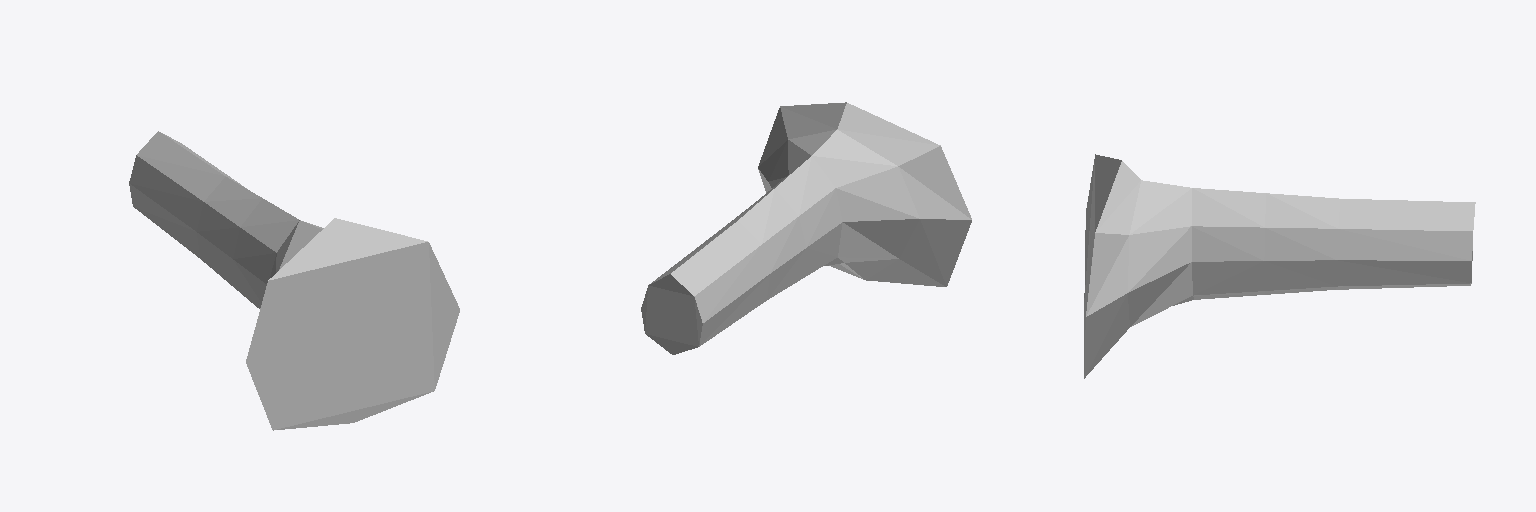
The model's file is cola1.obj.
The picture shows the model from 3 angles: view 1: azimuth 30°, elevation 25°; view 2: azimuth 150°, elevation 25°; view 3: azimuth 270°, elevation 25°; orthographic projection.
Visible parts, largest first — view 1: X360_XO-W_AMBIANT_Monkey.007; view 2: X360_XO-W_AMBIANT_Monkey.007; view 3: X360_XO-W_AMBIANT_Monkey.007.
Part boxes in pixels (x1,y1,x2,y2): X360_XO-W_AMBIANT_Monkey.007: (129, 131, 459, 430); X360_XO-W_AMBIANT_Monkey.007: (641, 102, 971, 354); X360_XO-W_AMBIANT_Monkey.007: (1084, 154, 1475, 378).
Bounding box in the file's own units: 0.0445 × 0.0379 × 0.0702.